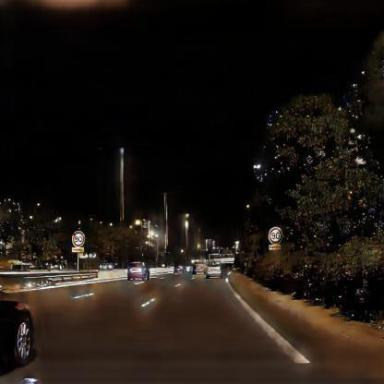Speed_limit_90: (269, 226, 284, 244), (72, 231, 85, 246)
